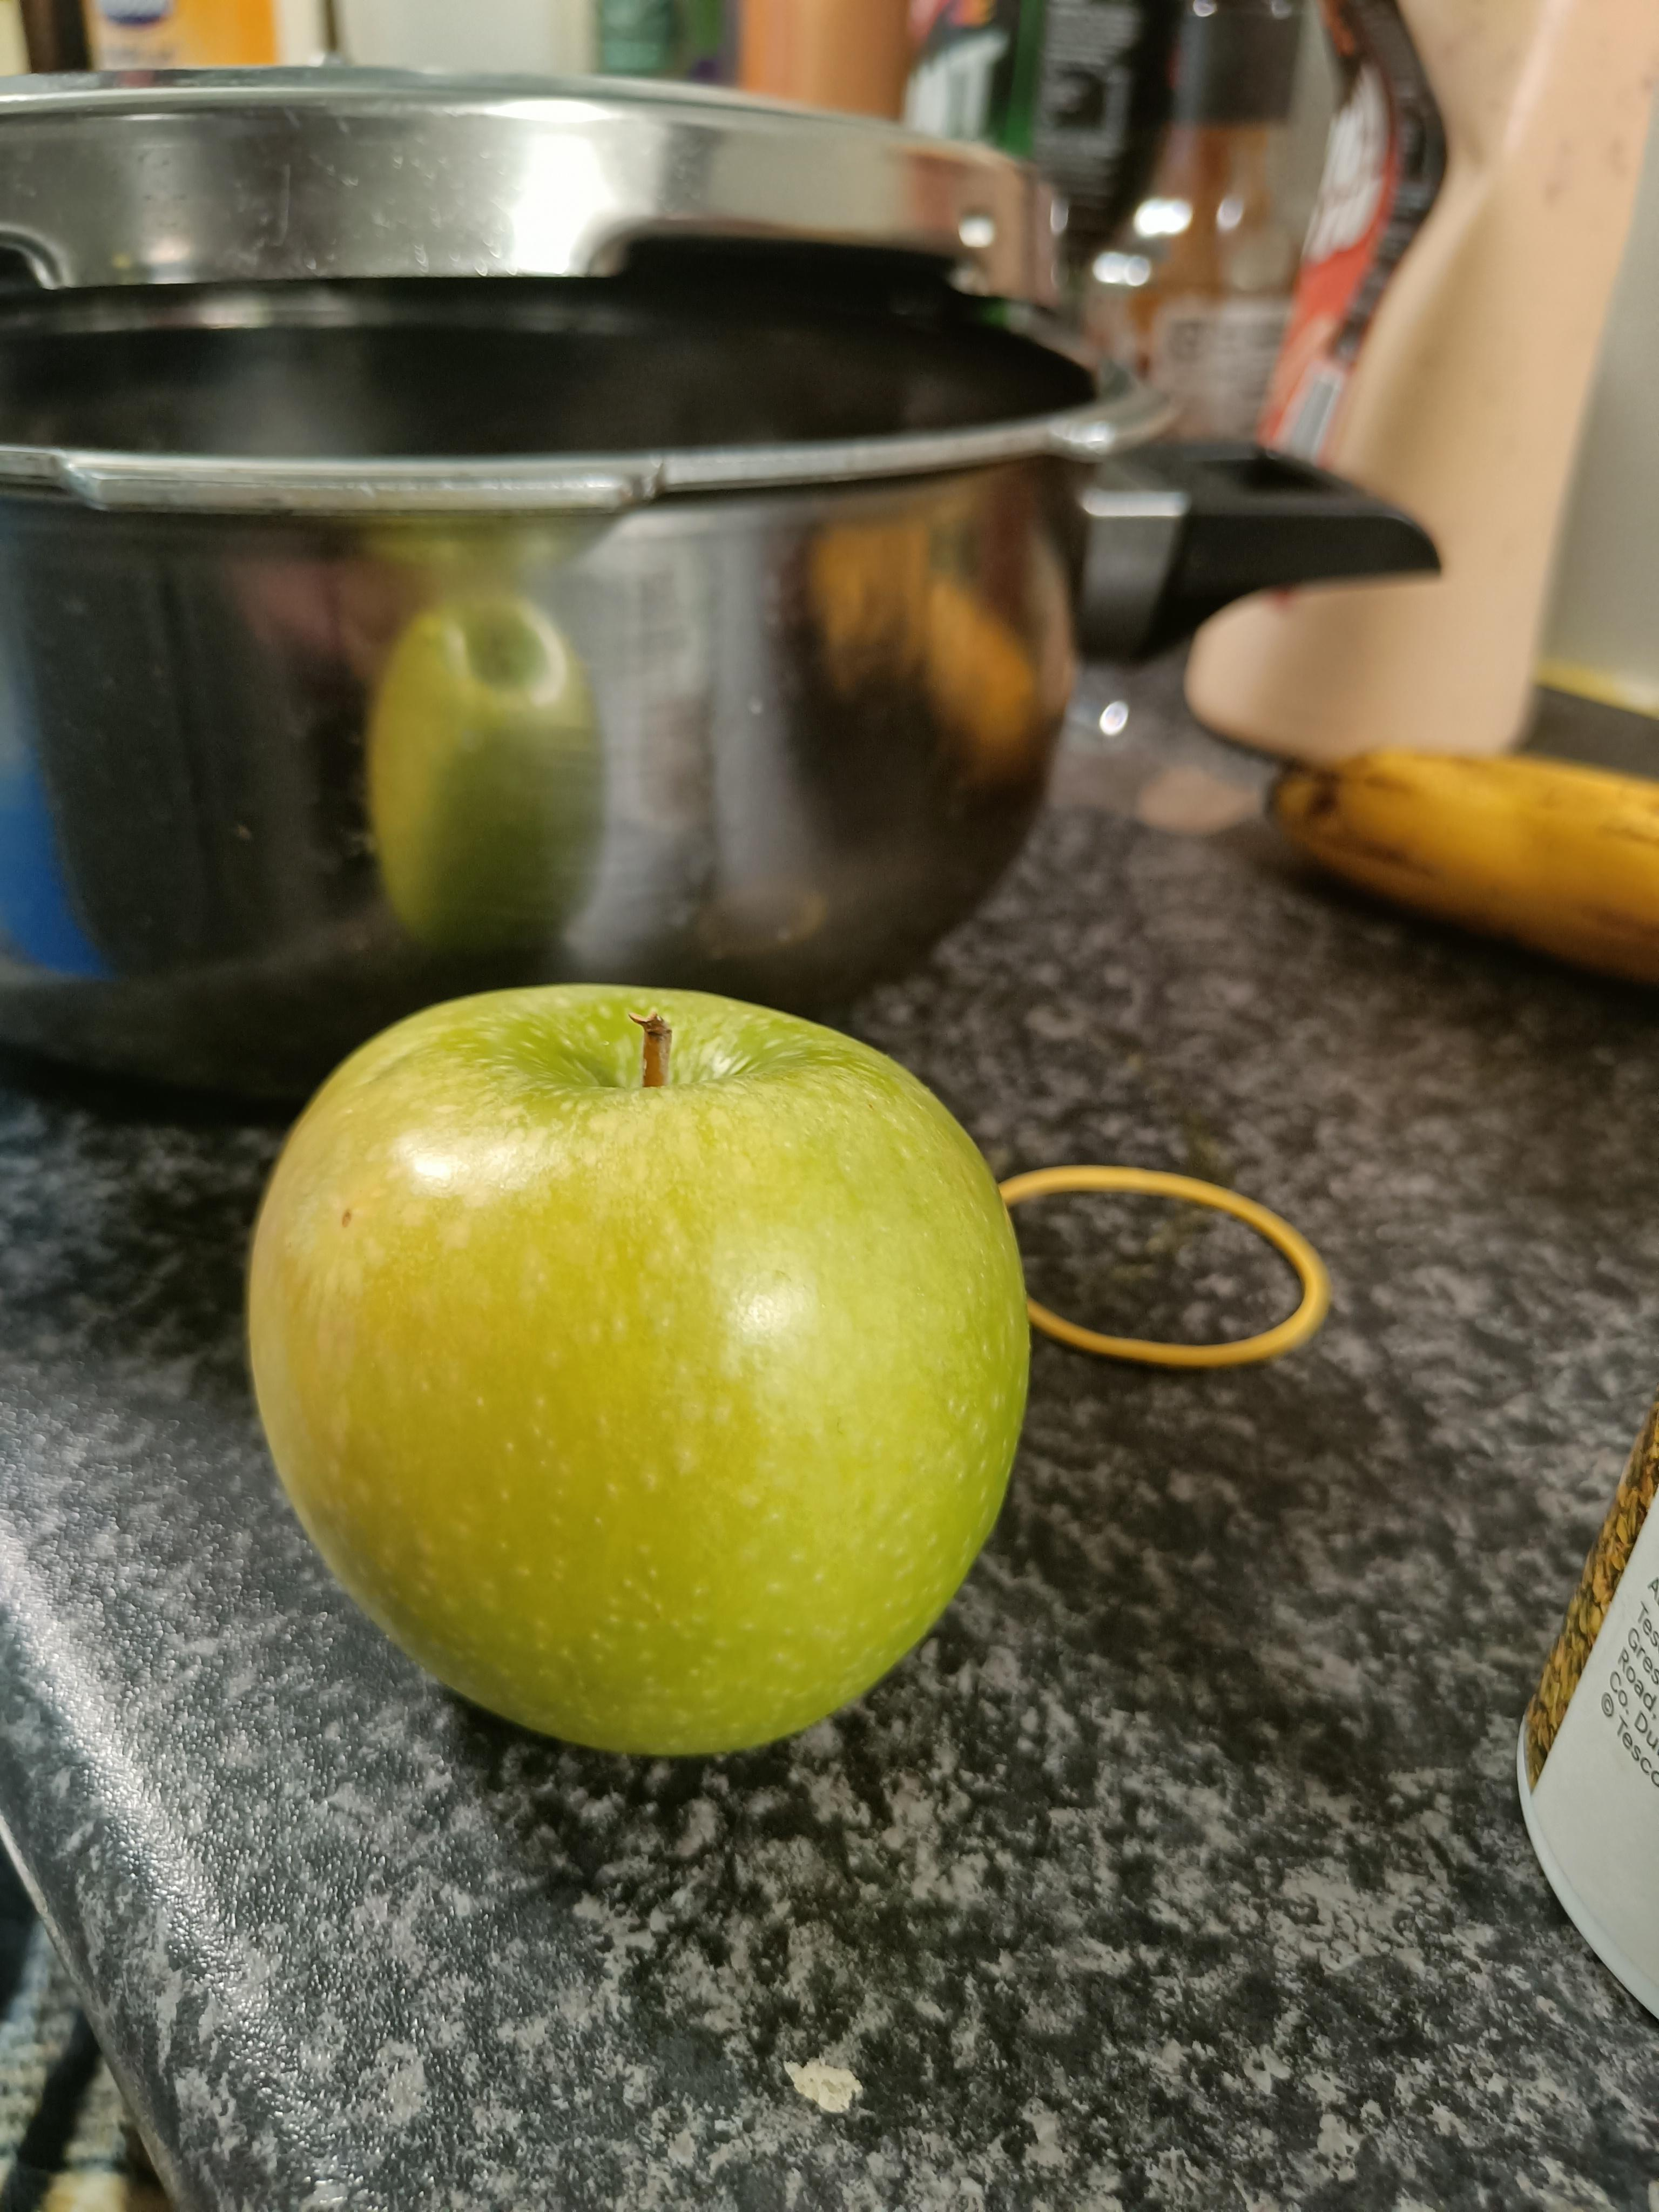Apple: (198, 950, 1067, 1815)
